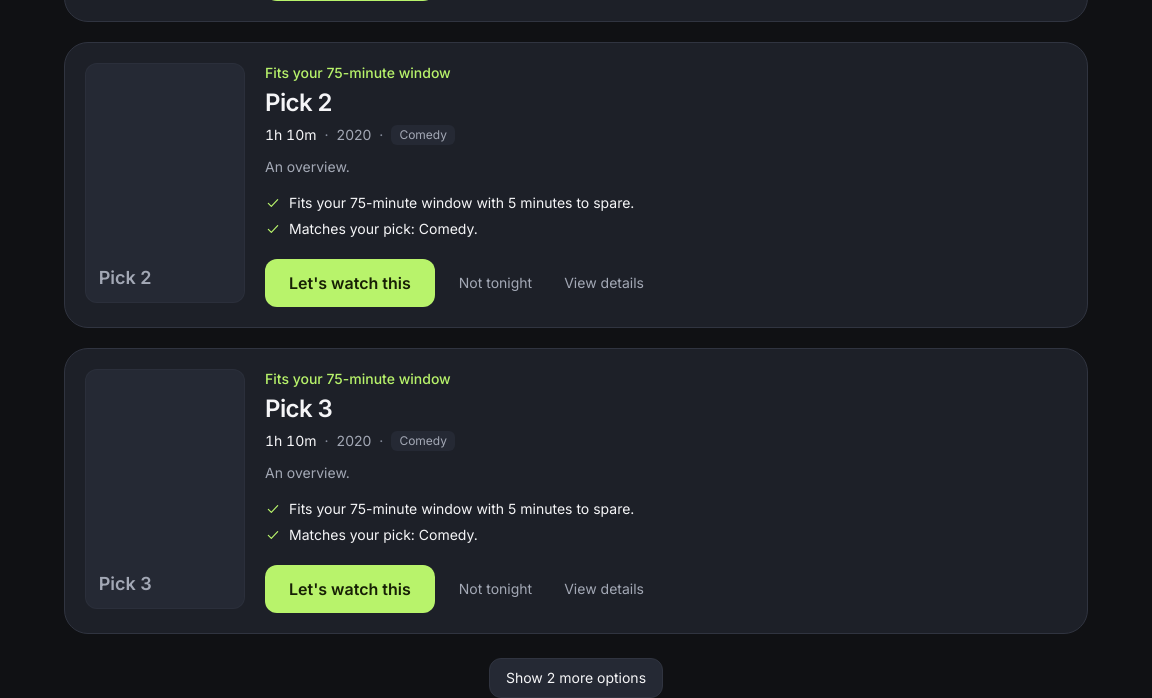
it: shows the top 3 picks and reveals the rest on request
(page scrolled)
Click the button "Show 2 more options" at {"x": 576, "y": 678}, box [489,658,663,697]
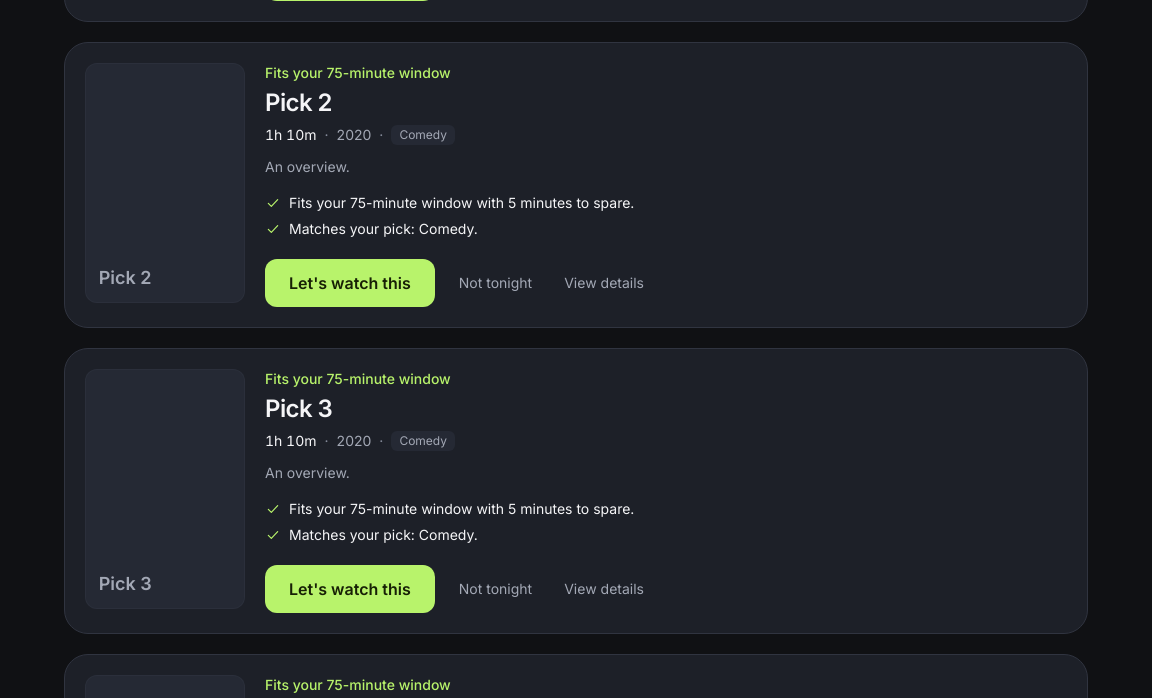
Expected: the button "more option" is gone
